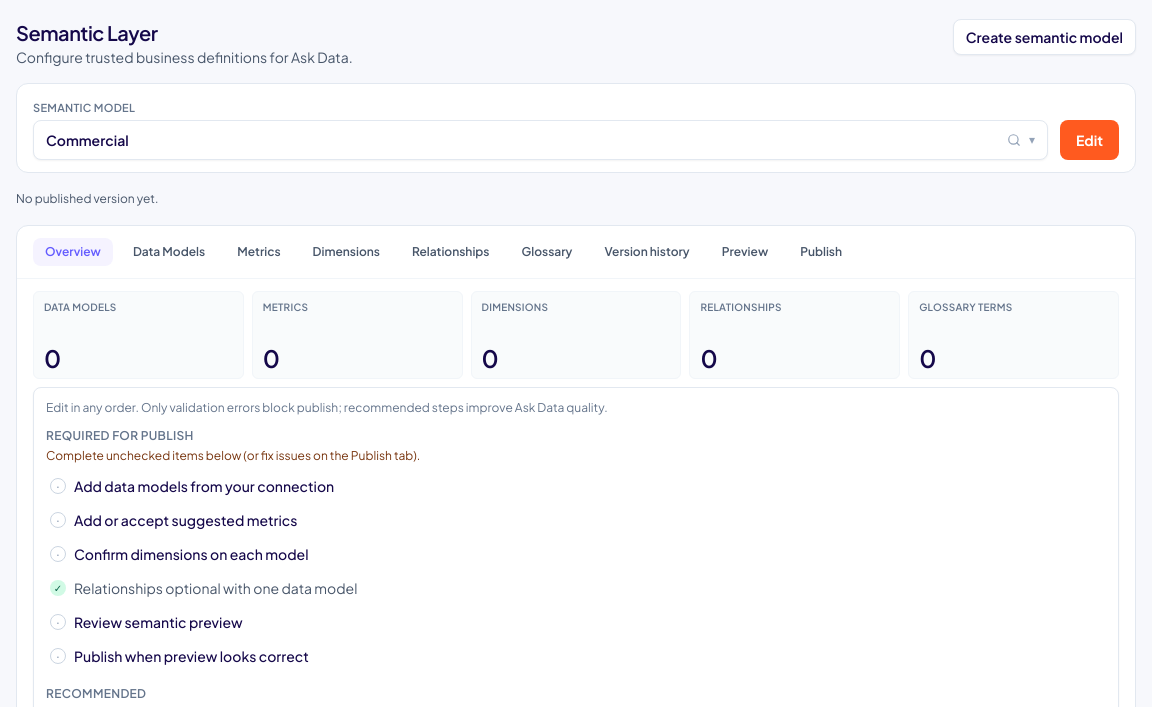
Test case: SEM-FE2 Phase 2 UX › SEM-FE2-003 Preview and version history are top-level tabs
Click the button with test id "semantic-tab-preview": (745, 252) [710,238,780,266]
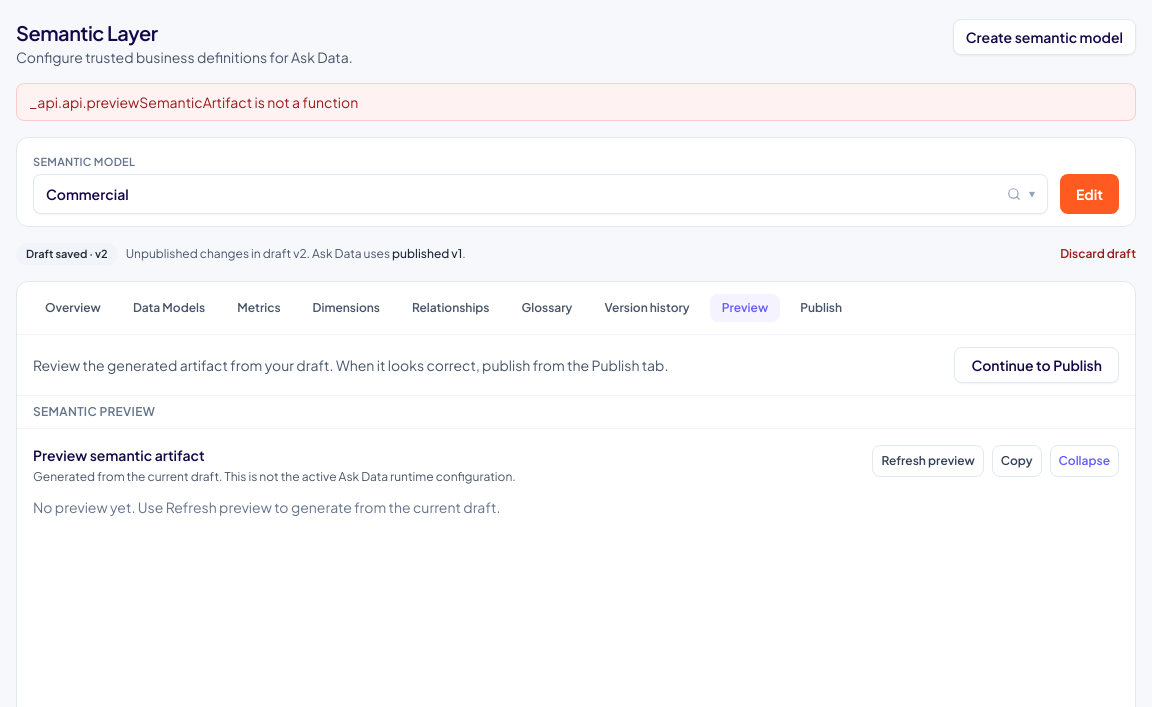
Check: the element with test id "semantic-preview-tab-panel" is shown, box [17,335,1135,516]
Click the button with test id "semantic-tab-version-history": (647, 308) [592,294,702,322]
(page scrolled)
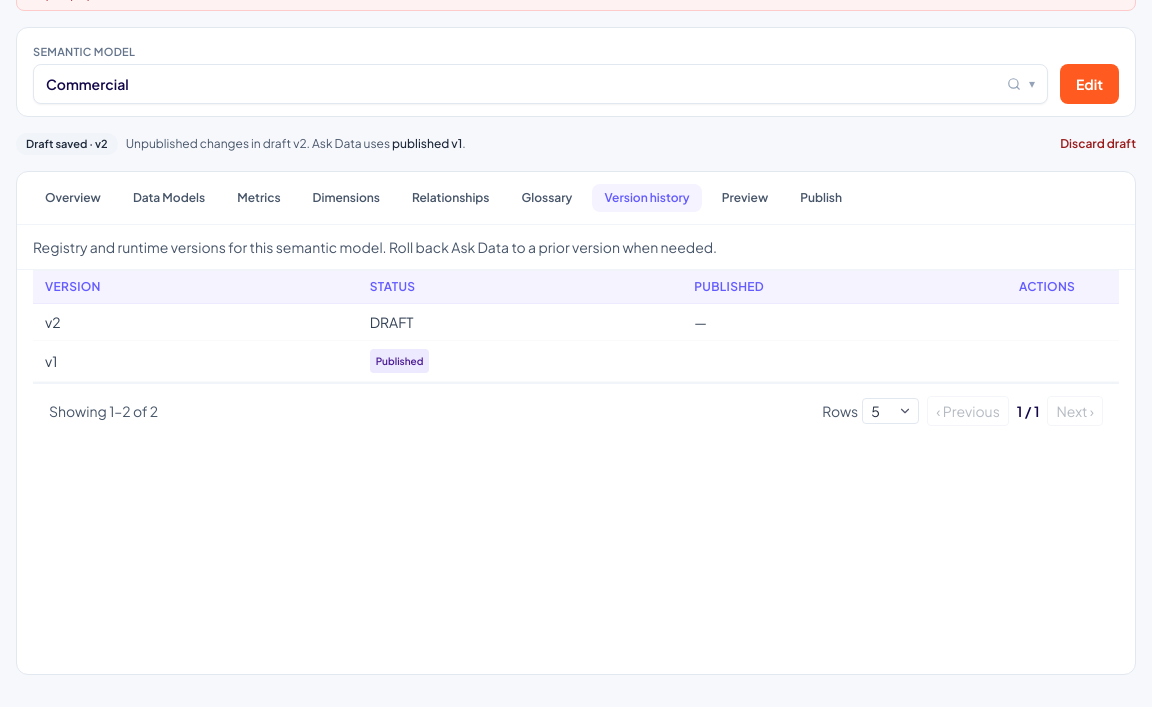
Check: the element with test id "semantic-version-history-tab-panel" is shown, box [17,225,1135,438]
